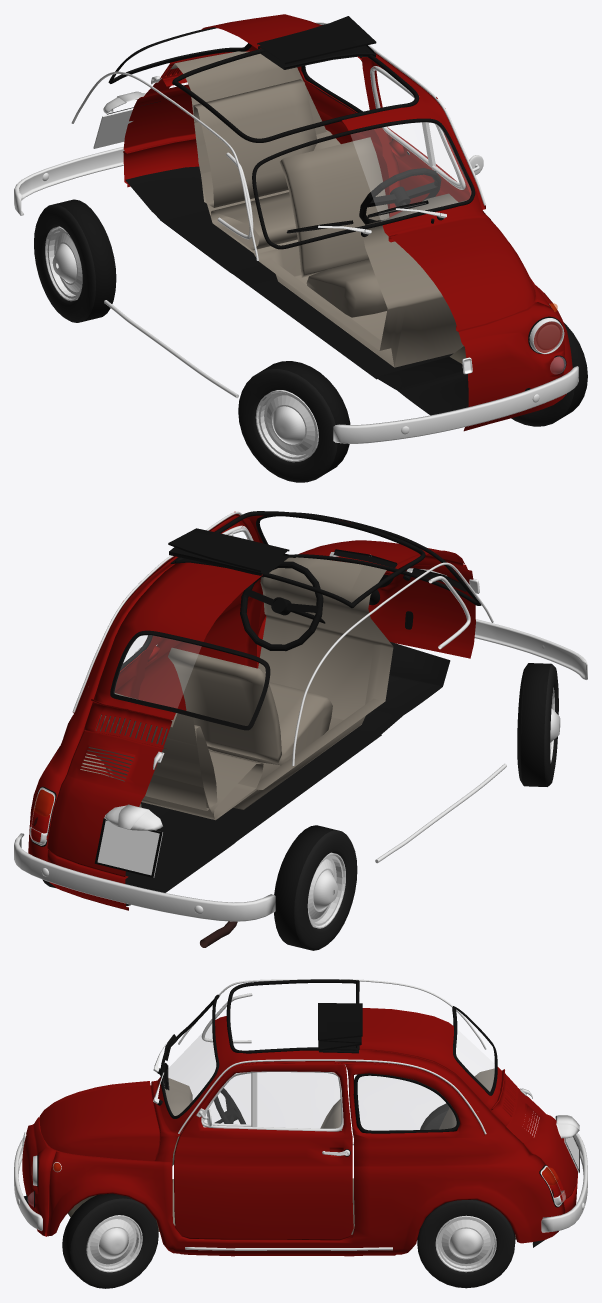
The model's file is Fiat500_alt.gltf.
3 views of the same model, one above another, from view 1: azimuth 30°, elevation 25°; view 2: azimuth 150°, elevation 25°; view 3: azimuth 270°, elevation 25° (orthographic). The views are drawn at different scales.
Parts seen in each view (by area): view 1: Karrose, Sitze, Innenraum, Rad.001, Unterboden, Frontschb, Rad.003, StossstangeV, Faltdach, Unterb2, Motorhaube, Frontschbgummi (+12 smaller); view 2: Karrose, Innenraum, Sitze, Motorhaube, Unterboden, Rad.003, StossstangeHi, Rad.001, Heckschb, Unterb2, Faltdach, Nummersch_H (+11 smaller); view 3: Karrose, Rad, Rad.002, Seitenscheibe, Scheibe01, Motorhaube, Frontschb, Faltdach, Eckfenster1, Leiste, Dachgummi, Innenraum (+15 smaller).
Part boxes in pixels (<box>): Karrose: <box>123,14,572,431</box>; Sitze: <box>193,79,389,317</box>; Innenraum: <box>170,51,466,367</box>; Rad.001: <box>238,361,350,482</box>; Unterboden: <box>125,130,453,379</box>; Frontschb: <box>351,122,471,220</box>; Rad.003: <box>34,199,116,322</box>; StossstangeV: <box>333,366,578,443</box>; Faltdach: <box>257,16,376,69</box>; Unterb2: <box>375,346,468,415</box>; Motorhaube: <box>123,75,195,151</box>; Frontschbgummi: <box>252,118,475,249</box>; Karrose: <box>28,511,475,910</box>; Innenraum: <box>85,557,393,820</box>; Sitze: <box>96,647,332,818</box>; Motorhaube: <box>47,730,164,877</box>; Unterboden: <box>80,729,381,906</box>; Rad.003: <box>274,825,357,950</box>; StossstangeHi: <box>14,833,275,921</box>; Rad.001: <box>517,663,560,786</box>; Heckschb: <box>114,635,201,707</box>; Unterb2: <box>355,642,450,734</box>; Faltdach: <box>168,528,289,577</box>; Nummersch_H: <box>94,818,162,877</box>; Karrose: <box>22,1008,577,1256</box>; Rad: <box>62,1193,158,1288</box>; Rad.002: <box>417,1199,515,1288</box>; Seitenscheibe: <box>257,1072,341,1128</box>; Scheibe01: <box>355,1075,456,1130</box>; Motorhaube: <box>506,1088,577,1198</box>; Frontschb: <box>163,1023,215,1115</box>; Faltdach: <box>318,1003,362,1053</box>; Eckfenster1: <box>205,1073,250,1123</box>; Leiste: <box>178,979,486,1134</box>; Dachgummi: <box>226,979,359,1053</box>; Innenraum: <box>164,1068,494,1234</box>.
Bounding box in the file's own units: 2.42 × 2.28 × 4.96.
